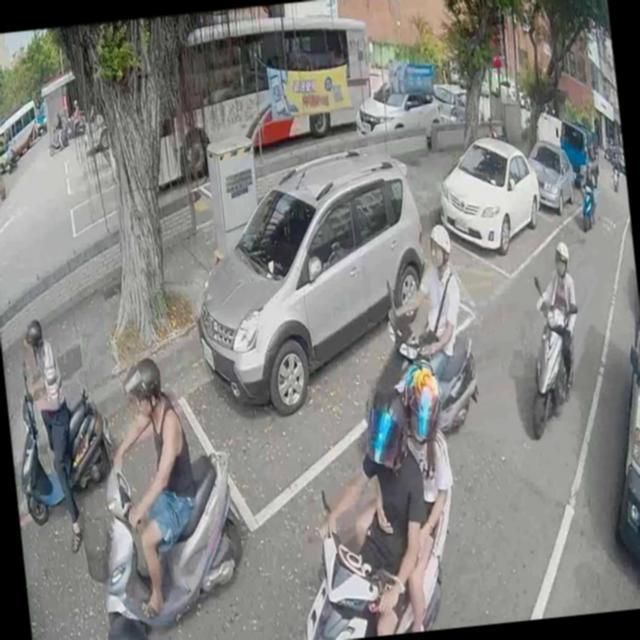person: (338, 342, 470, 636), (298, 383, 438, 639), (98, 348, 210, 628), (16, 315, 82, 545), (403, 216, 468, 383), (525, 241, 586, 400), (100, 606, 156, 640), (576, 160, 598, 226), (49, 111, 64, 148), (2, 137, 16, 161)
